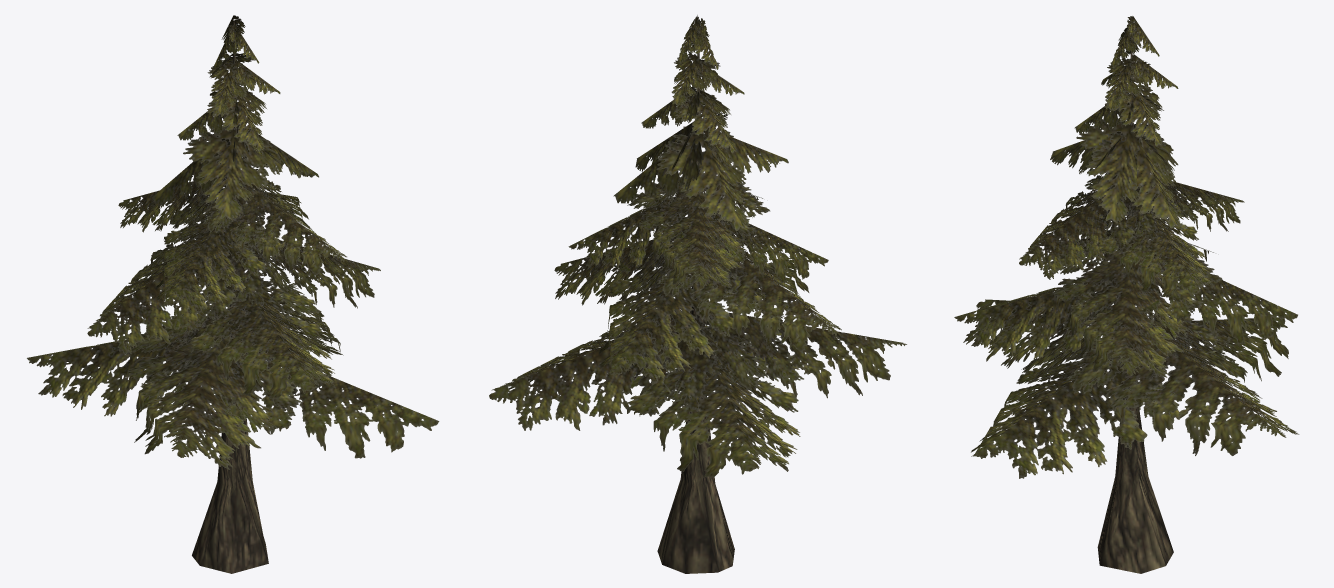
Rendered from Scene_Tree_08.FBX.
3 renders of one model, left to right at view 1: azimuth 30°, elevation 25°; view 2: azimuth 150°, elevation 25°; view 3: azimuth 270°, elevation 25°, orthographic.
Visible parts, largest first — view 1: Scene_Tree_08; view 2: Scene_Tree_08; view 3: Scene_Tree_08.
Boxes of the visible parts, left/top/right/bottom form: Scene_Tree_08: left=27, top=15, right=439, bottom=573; Scene_Tree_08: left=489, top=15, right=906, bottom=573; Scene_Tree_08: left=954, top=16, right=1299, bottom=573.
Bounding box in the file's own units: 3 × 4.76 × 2.99.
